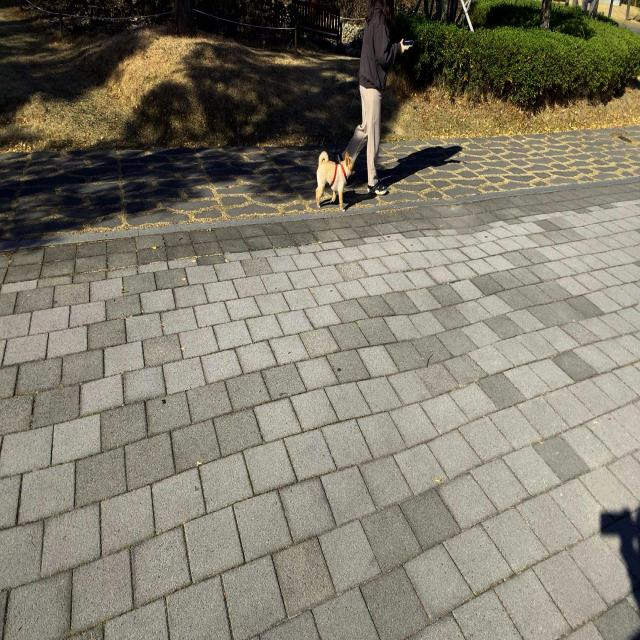Leashed_Dog: (315, 79, 367, 211)
